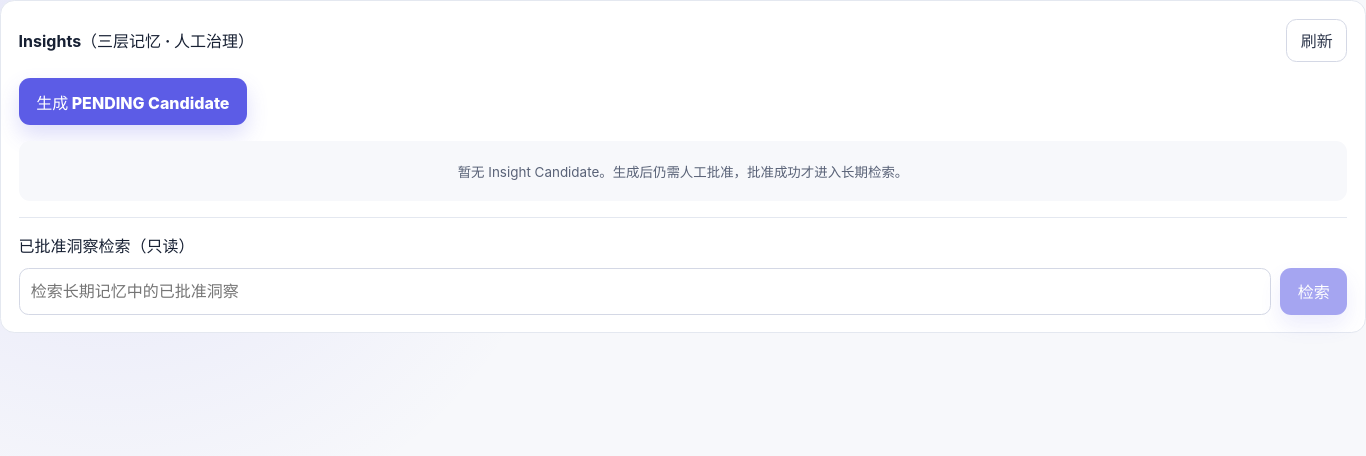
InsightPanel › searches only backend-returned approved insights
In the field with test id "insight-search-input": (645, 291) [19, 268, 1271, 315], type "渠道规律"
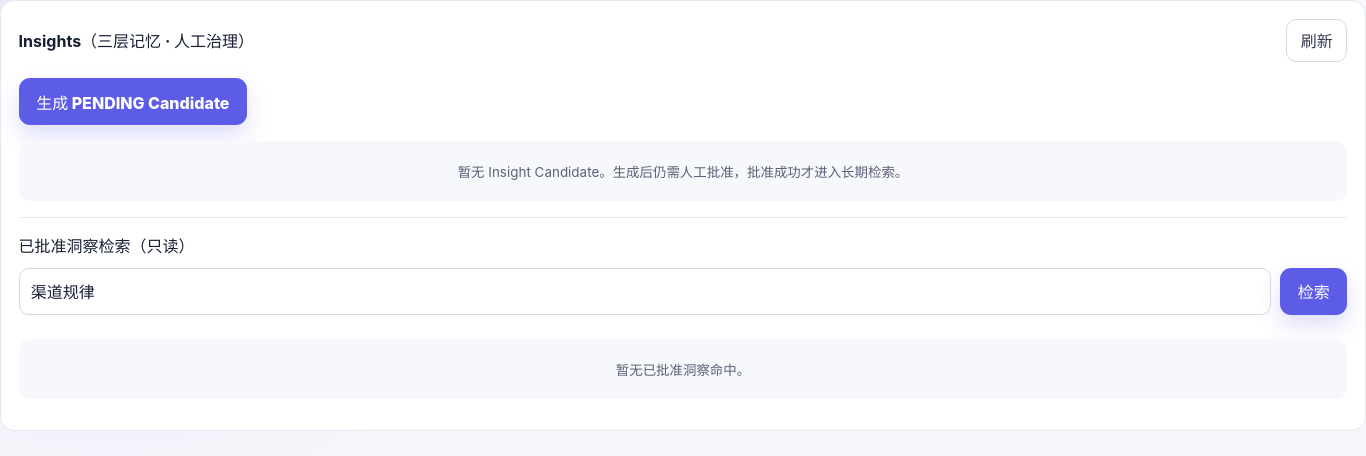
Click the button with test id "insight-search-submit": click(1314, 291) [1280, 268, 1347, 315]
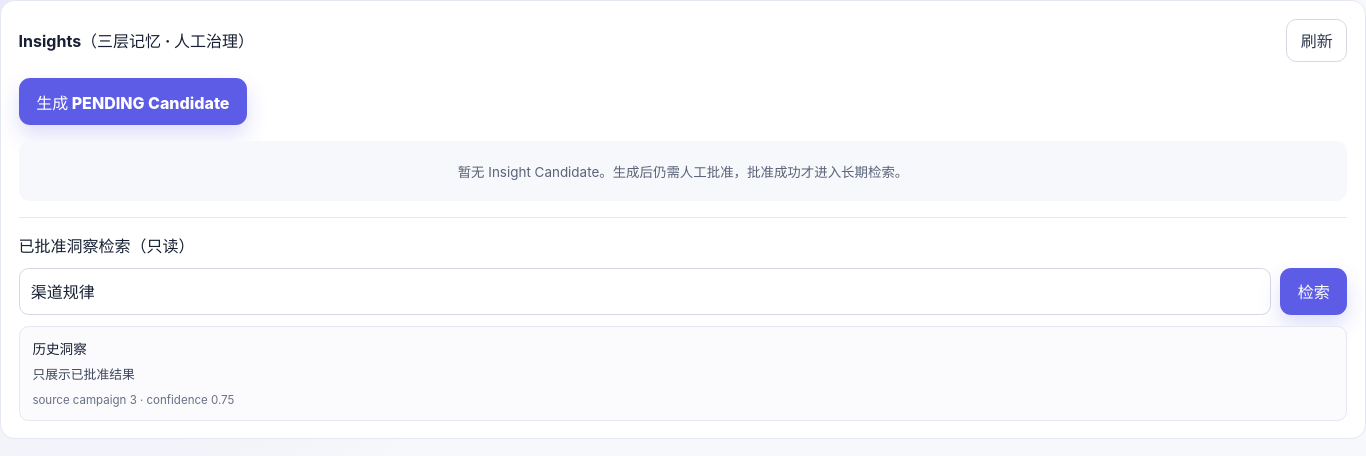
Check: the text "历史洞察" is shown, box [32, 341, 87, 357]
Check: the text "只展示已批准结果" is shown, box [32, 367, 135, 382]
